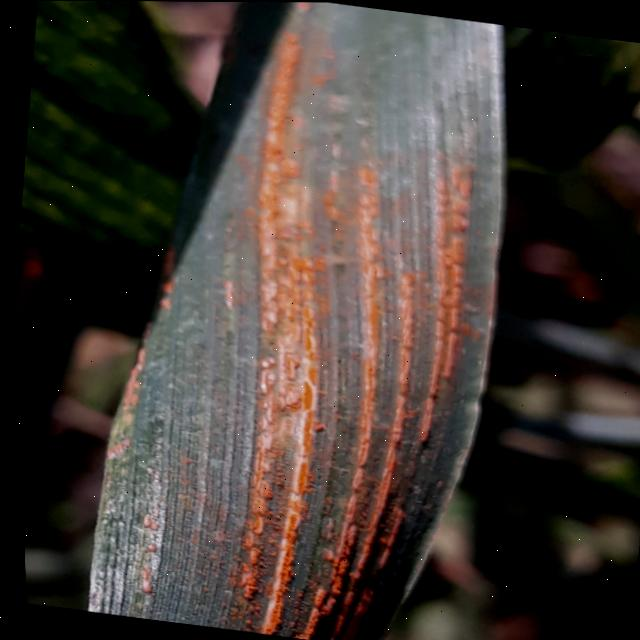yellow_rust: (63, 0, 528, 640), (8, 235, 60, 405)
